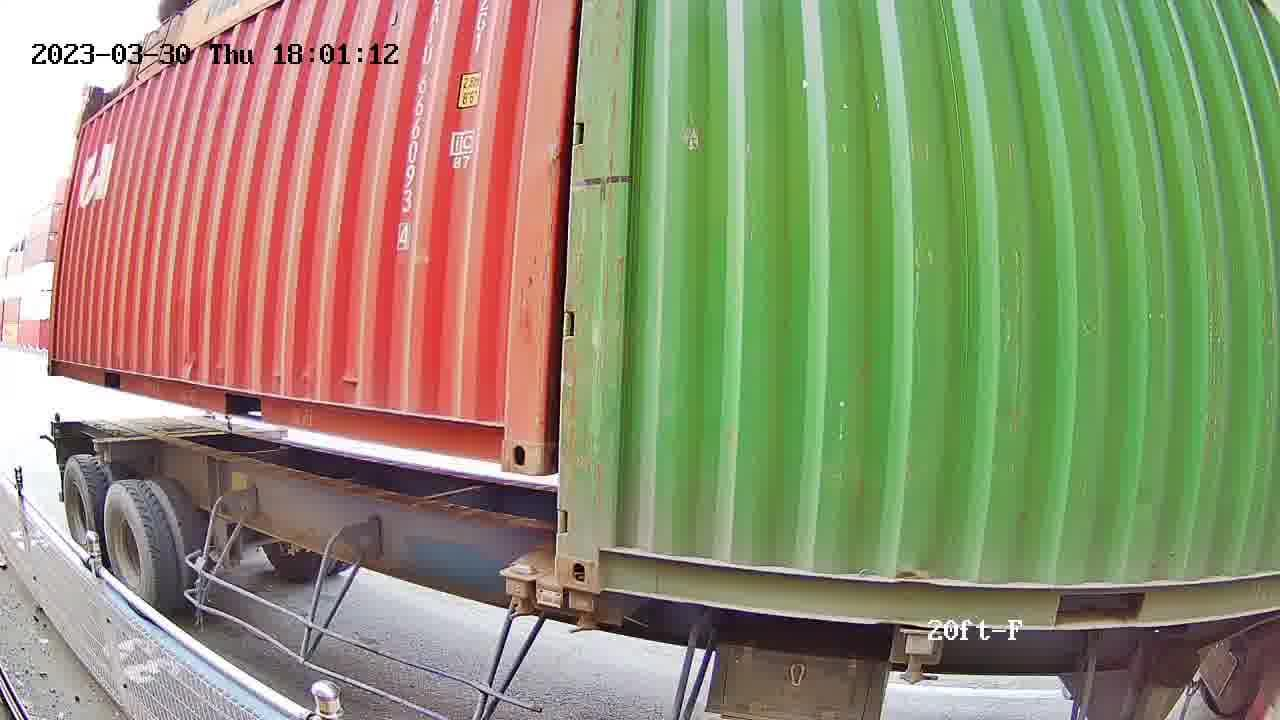Cone: (501, 562, 541, 615), (565, 591, 604, 634)
Hole_L: (556, 512, 650, 599)
Hole_R: (458, 392, 544, 477)
Tire: (105, 484, 161, 614), (63, 458, 104, 553)
